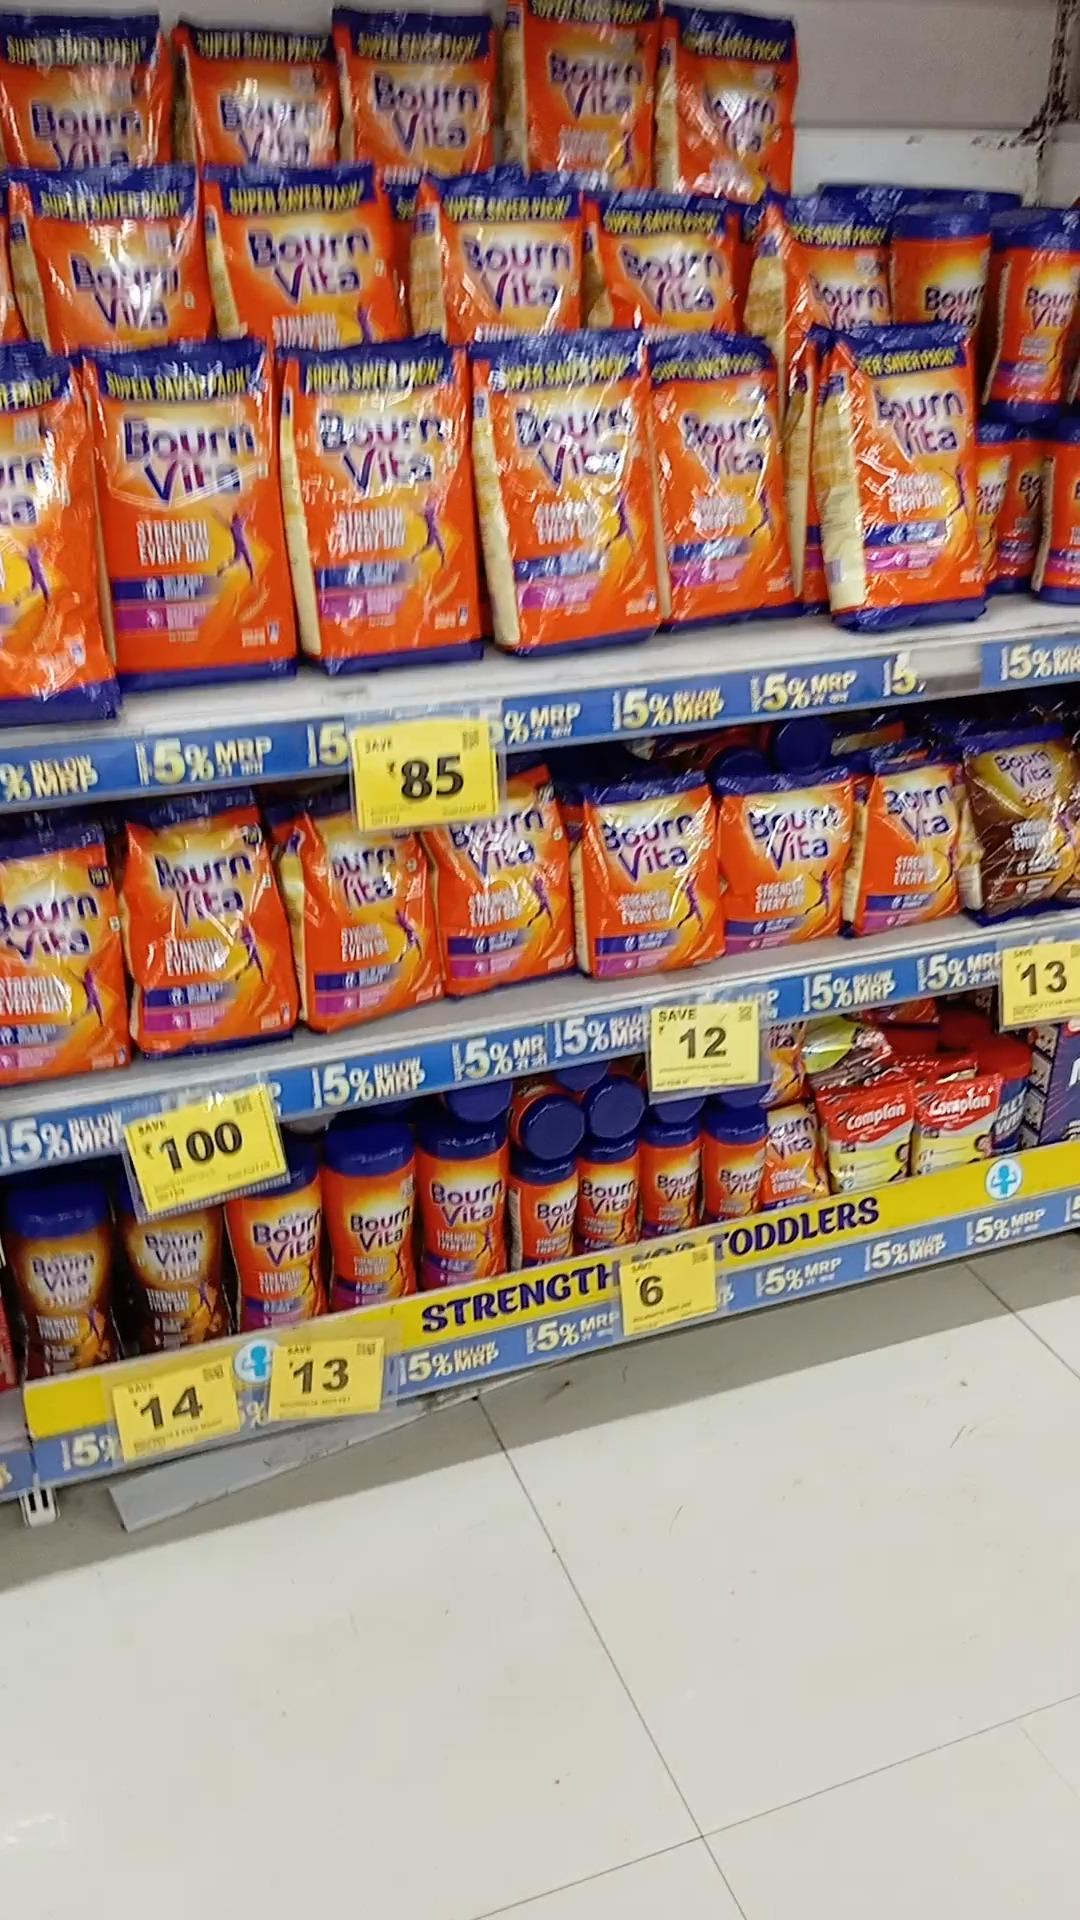BOURN_VITA_1_KG_POUCH: (100, 351, 291, 695), (305, 351, 469, 680), (488, 340, 650, 650), (835, 331, 982, 626), (662, 340, 787, 626), (26, 171, 207, 347), (227, 166, 392, 334), (338, 9, 500, 164), (669, 3, 796, 191), (0, 16, 166, 160), (431, 173, 583, 327), (514, 0, 649, 165), (183, 17, 331, 160), (596, 195, 731, 330)
BOURN_VITA_200_G_JAR: (513, 1163, 571, 1265), (640, 1127, 698, 1226), (704, 1122, 761, 1217), (582, 1150, 636, 1246)
BOURN_VITA_500_G_JAR: (327, 1126, 415, 1294), (232, 1192, 322, 1325), (423, 1143, 505, 1287)
BOURN_VITA_500_G_POUCH: (583, 783, 720, 971), (727, 775, 837, 945), (857, 764, 957, 924)
BOURN_VITA_750_G_POUCH: (136, 807, 289, 1043), (0, 832, 123, 1083), (302, 827, 434, 1022), (444, 822, 572, 986)
BOURN_VITA_FIVE_STAR_MAGIC_500_G_JAR: (11, 1205, 120, 1366), (131, 1218, 219, 1344)
BOURN_VITA_FIVE_STAR_MAGIC_500_G_POUCH: (969, 735, 1080, 916)
